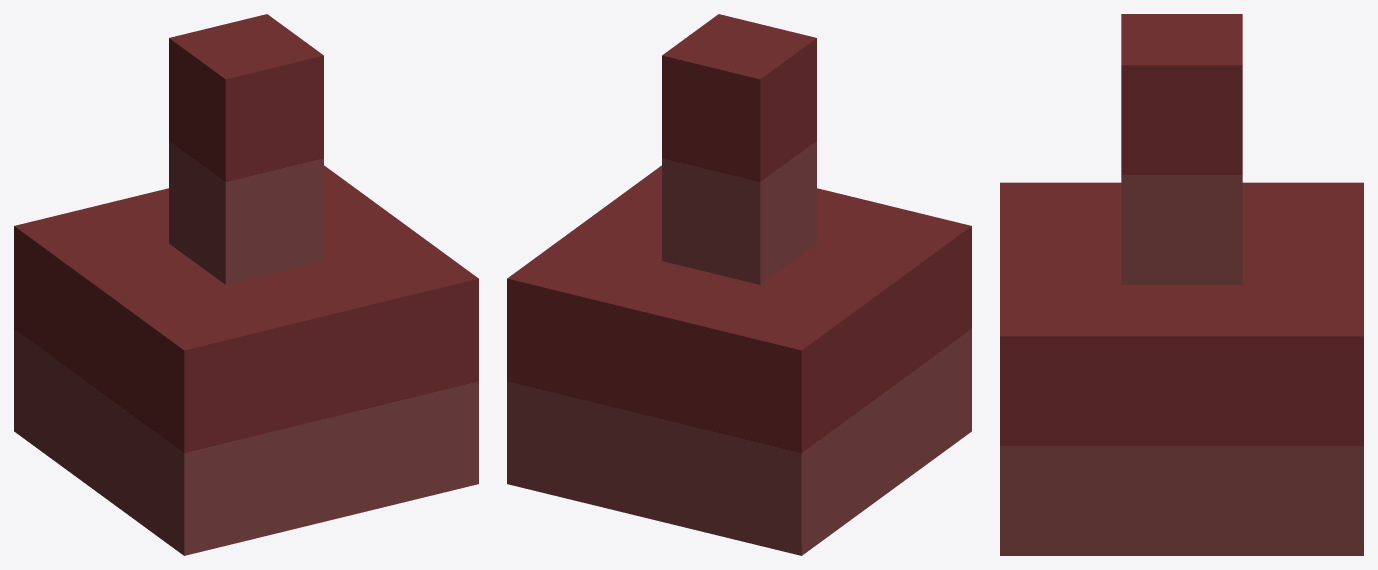
File: bottle_03.fbx
3 views of the same model, side by side, from view 1: azimuth 30°, elevation 25°; view 2: azimuth 150°, elevation 25°; view 3: azimuth 270°, elevation 25° (orthographic). The views are drawn at different scales.
Visible parts, largest first — view 1: bottle_03_0; view 2: bottle_03_0; view 3: bottle_03_0.
Part boxes in pixels (x1,y1,x2,y2): bottle_03_0: (14, 14, 478, 555); bottle_03_0: (507, 14, 971, 555); bottle_03_0: (1000, 14, 1363, 555).
Size of the model in its own units: 300 by 300 by 400.
